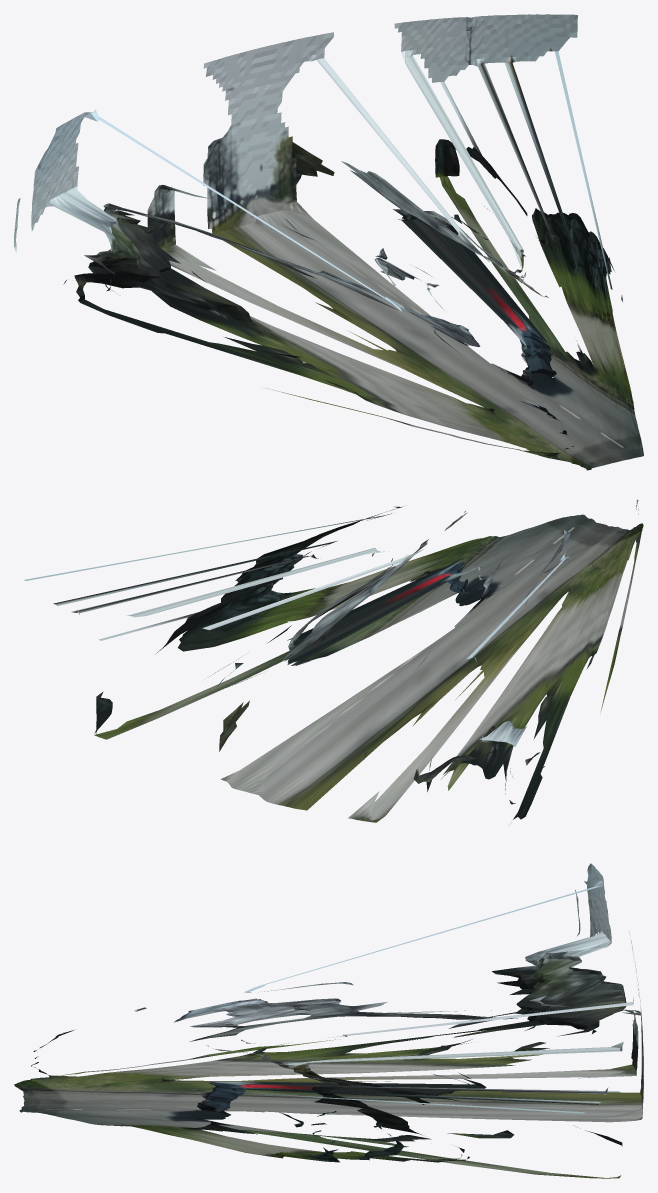
3 views of the same model, one above another, from view 1: azimuth 30°, elevation 25°; view 2: azimuth 150°, elevation 25°; view 3: azimuth 270°, elevation 25° (orthographic). The views are drawn at different scales.
Parts seen in each view (by area): view 1: defaultobject; view 2: defaultobject; view 3: defaultobject.
Boxes of the visible parts, x1,y1,x2,y2 form: defaultobject: (14, 14, 643, 470); defaultobject: (24, 499, 643, 822); defaultobject: (14, 863, 643, 1178).
Bounding box in the file's own units: 40.88 × 12.74 × 45.17.
1 material, 1 textured.
